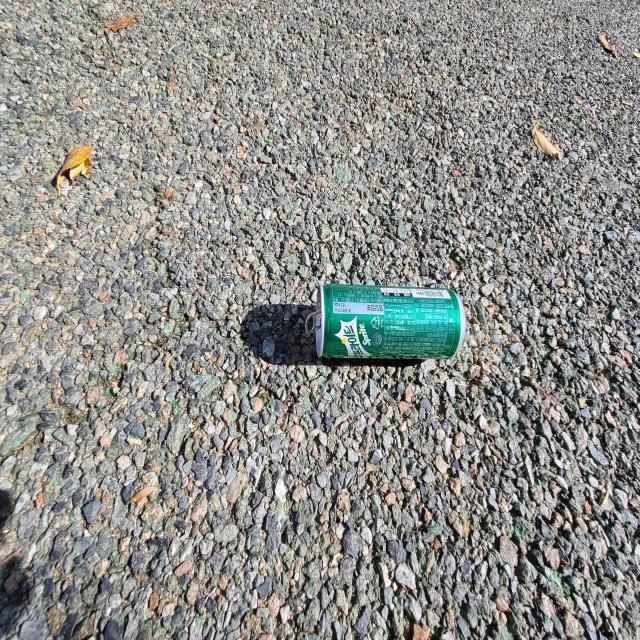can: (306, 284, 466, 359)
